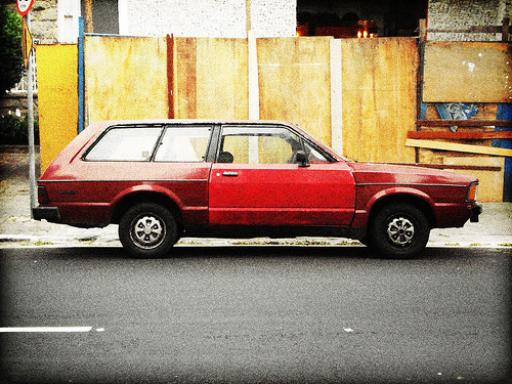Cheetah: (22, 91, 492, 294)
